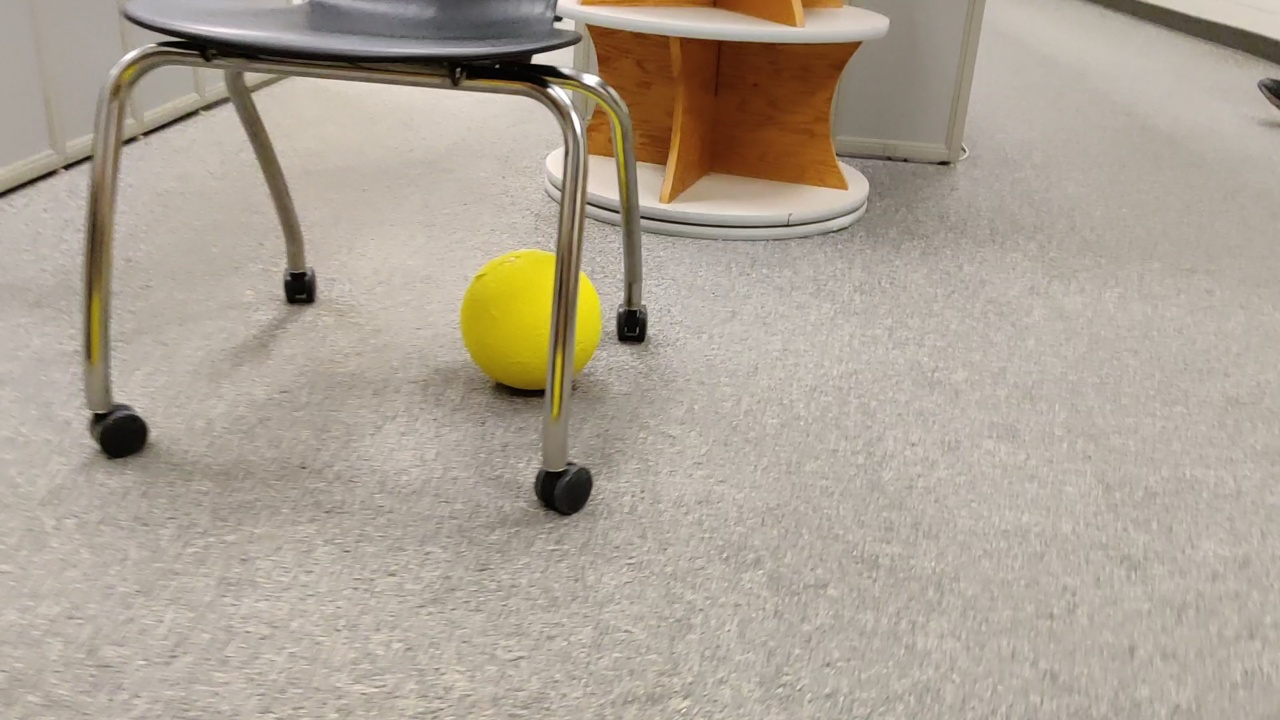Ball: (457, 247, 602, 390)
